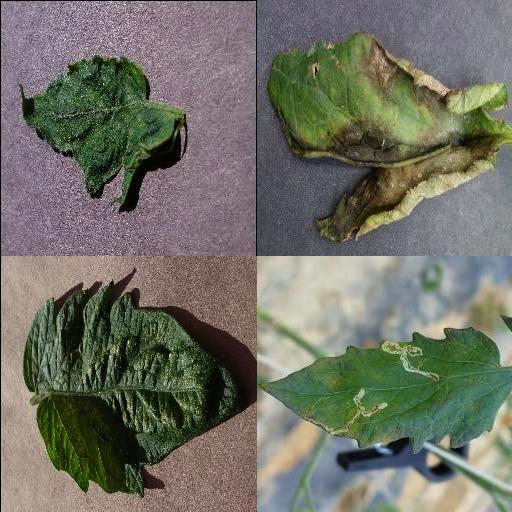Late Blight: (263, 35, 507, 245)
Leaf Miner: (257, 327, 512, 456)
Mosaic Virus: (16, 53, 177, 205)
Spider Mites: (23, 280, 241, 500)
